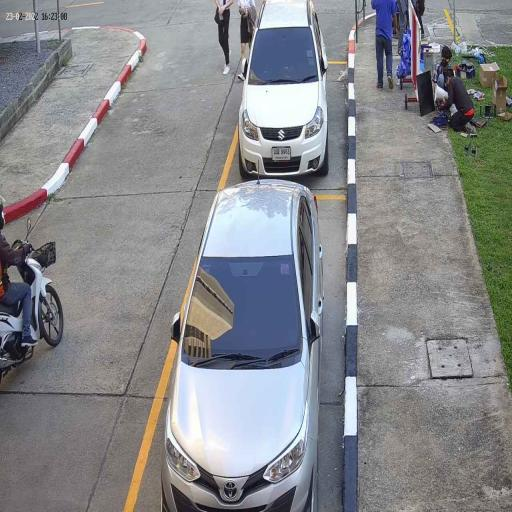car: (160, 178, 324, 512), (237, 0, 329, 178)
motorcycle: (0, 239, 64, 381)
